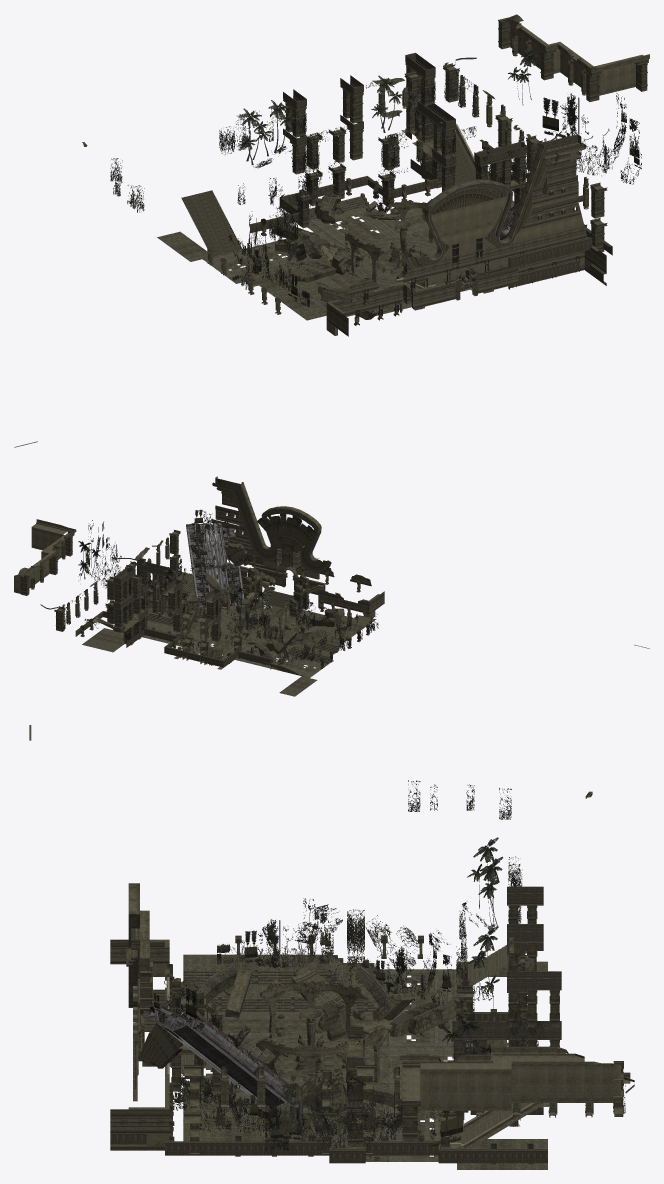
The model's file is map9.fbx.
3 renders of one model, top to bottom at view 1: azimuth 30°, elevation 25°; view 2: azimuth 150°, elevation 25°; view 3: azimuth 270°, elevation 25°, orthographic. The views are drawn at different scales.
Visible parts, largest first — view 1: 0002_iseki_1_Shape, 0010_polySurfaceShape344926, 0000_tuta_2Shape, 0001_iseki_1_Shape, 0029_polySurfaceShape343591, 0015_polySurfaceShape3434961, 0018_polySurfaceShape343766, 0013_polySurfaceShape3433687, 0006_polySurfaceShape343538, 0038_kaidan5Shape, 0012_polySurfaceShape343486, 0005_polySurfaceShape343368 (+4 smaller); view 2: 0002_iseki_1_Shape, 0000_tuta_2Shape, 0004_polySurfaceShape343589, 0010_polySurfaceShape344926, 0001_iseki_1_Shape, 0029_polySurfaceShape343591, 0018_polySurfaceShape343766, 0015_polySurfaceShape3434961, 0005_polySurfaceShape343368, 0013_polySurfaceShape3433687, 0031_kaidan_sideShape, 0032_kaidan_sidepartsShape2 (+4 smaller); view 3: 0002_iseki_1_Shape, 0001_iseki_1_Shape, 0000_tuta_2Shape, 0015_polySurfaceShape3434961, 0029_polySurfaceShape343591, 0010_polySurfaceShape344926, 0018_polySurfaceShape343766, 0007_gareki_1000Shape, 0004_polySurfaceShape343589, 0032_kaidan_sidepartsShape2, 0012_polySurfaceShape343486, 0033_kaidan3Shape (+8 smaller).
Boxes of the visible parts, bbox=[...] form: 0002_iseki_1_Shape: bbox=[82, 14, 648, 325]; 0010_polySurfaceShape344926: bbox=[320, 36, 588, 301]; 0000_tuta_2Shape: bbox=[110, 46, 573, 318]; 0001_iseki_1_Shape: bbox=[246, 93, 641, 307]; 0029_polySurfaceShape343591: bbox=[202, 200, 514, 315]; 0015_polySurfaceShape3434961: bbox=[507, 18, 649, 95]; 0018_polySurfaceShape343766: bbox=[157, 171, 490, 320]; 0013_polySurfaceShape3433687: bbox=[326, 267, 466, 336]; 0006_polySurfaceShape343538: bbox=[476, 237, 606, 289]; 0038_kaidan5Shape: bbox=[181, 190, 471, 289]; 0012_polySurfaceShape343486: bbox=[468, 245, 606, 293]; 0005_polySurfaceShape343368: bbox=[250, 159, 438, 233]; 0002_iseki_1_Shape: bbox=[18, 476, 369, 668]; 0000_tuta_2Shape: bbox=[57, 479, 378, 661]; 0004_polySurfaceShape343589: bbox=[186, 521, 244, 608]; 0010_polySurfaceShape344926: bbox=[30, 494, 371, 651]; 0001_iseki_1_Shape: bbox=[78, 509, 357, 669]; 0029_polySurfaceShape343591: bbox=[113, 598, 331, 677]; 0018_polySurfaceShape343766: bbox=[82, 572, 375, 696]; 0015_polySurfaceShape3434961: bbox=[14, 519, 76, 593]; 0005_polySurfaceShape343368: bbox=[126, 628, 271, 667]; 0013_polySurfaceShape3433687: bbox=[292, 567, 384, 618]; 0031_kaidan_sideShape: bbox=[208, 610, 288, 644]; 0032_kaidan_sidepartsShape2: bbox=[147, 580, 359, 662]; 0002_iseki_1_Shape: bbox=[126, 791, 634, 1164]; 0001_iseki_1_Shape: bbox=[151, 898, 506, 1153]; 0000_tuta_2Shape: bbox=[168, 780, 625, 1151]; 0015_polySurfaceShape3434961: bbox=[400, 1046, 620, 1110]; 0029_polySurfaceShape343591: bbox=[183, 969, 509, 1161]; 0010_polySurfaceShape344926: bbox=[133, 952, 593, 1137]; 0018_polySurfaceShape343766: bbox=[183, 954, 547, 1169]; 0007_gareki_1000Shape: bbox=[165, 1141, 547, 1163]; 0004_polySurfaceShape343589: bbox=[142, 1003, 298, 1108]; 0032_kaidan_sidepartsShape2: bbox=[183, 955, 506, 1146]; 0012_polySurfaceShape343486: bbox=[110, 1032, 169, 1146]; 0033_kaidan3Shape: bbox=[181, 951, 547, 1160].
Size of what is drawn, in the model's own units: 264 by 49.34 by 133.
